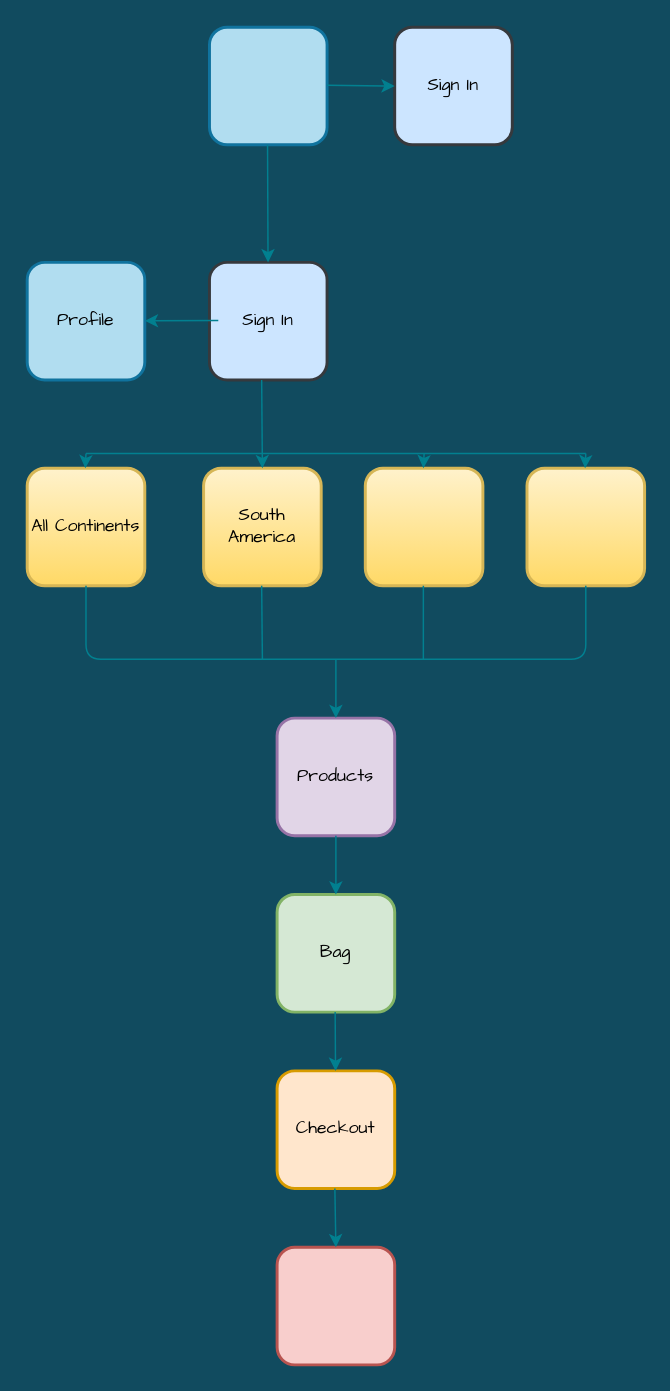
This 670x1391 diagram has some shape labels left out. Each missing label, with the centre of its shape:
"Africa" belongs at point 423,526.
"Checkout Complete" belongs at point 335,1305.
"Home Page" belongs at point 267,85.
"Special Offers" belongs at point 585,526.
